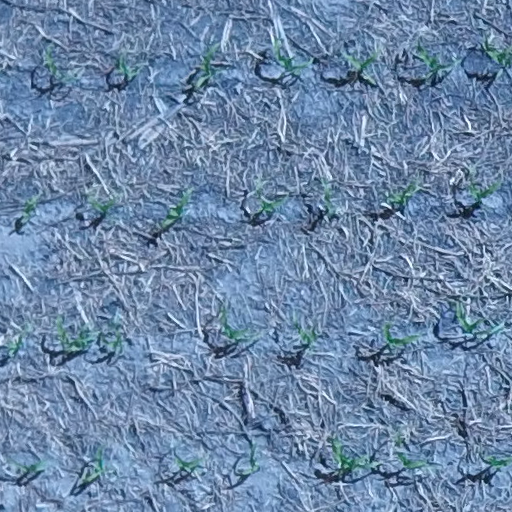planta: (328, 435, 381, 474), (269, 35, 315, 79), (159, 187, 195, 229), (54, 314, 90, 354), (41, 44, 77, 84), (379, 320, 423, 351), (218, 305, 253, 342), (414, 42, 451, 76), (81, 445, 111, 485), (194, 42, 219, 89), (451, 301, 484, 335), (383, 180, 421, 208), (465, 179, 504, 206), (291, 316, 320, 352), (342, 50, 379, 73), (394, 449, 432, 471), (241, 440, 261, 478), (113, 54, 141, 81), (3, 327, 29, 356), (319, 178, 337, 218), (86, 195, 117, 218), (255, 196, 287, 217), (12, 457, 49, 475), (19, 193, 40, 223), (172, 455, 205, 474)
